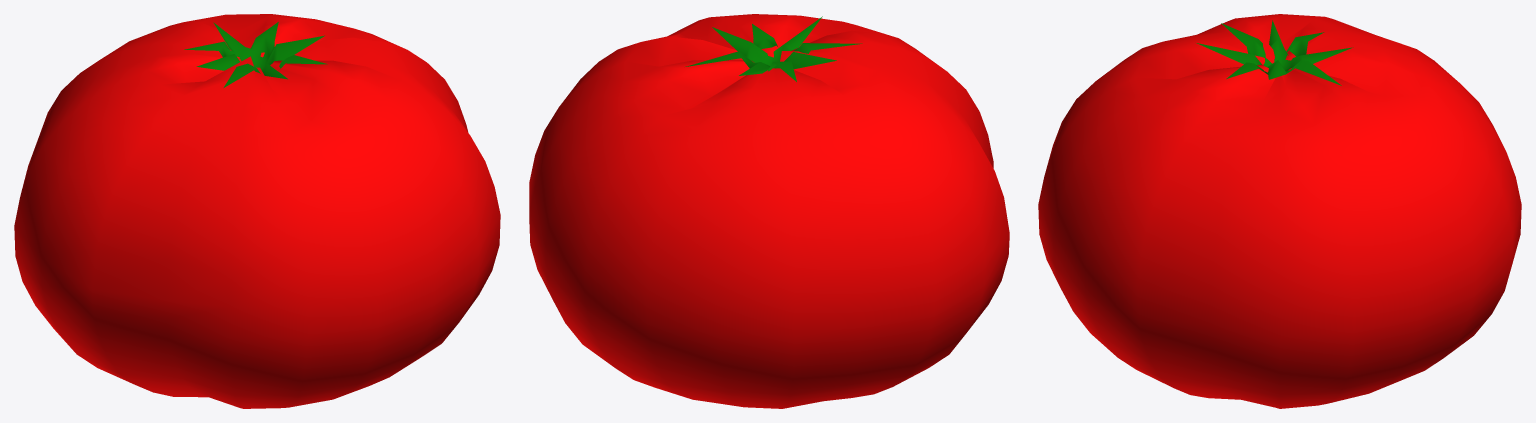
3 renders of one model, left to right at view 1: azimuth 30°, elevation 25°; view 2: azimuth 150°, elevation 25°; view 3: azimuth 270°, elevation 25°, orthographic.
Parts seen in each view (by area): view 1: tomato; view 2: tomato; view 3: tomato.
Boxes of the visible parts, x1=… form: tomato: x1=14, y1=14, x2=500, y2=408; tomato: x1=529, y1=14, x2=1009, y2=408; tomato: x1=1038, y1=14, x2=1521, y2=408.
Bounding box in the file's own units: 0.0213 × 0.0155 × 0.0209.
